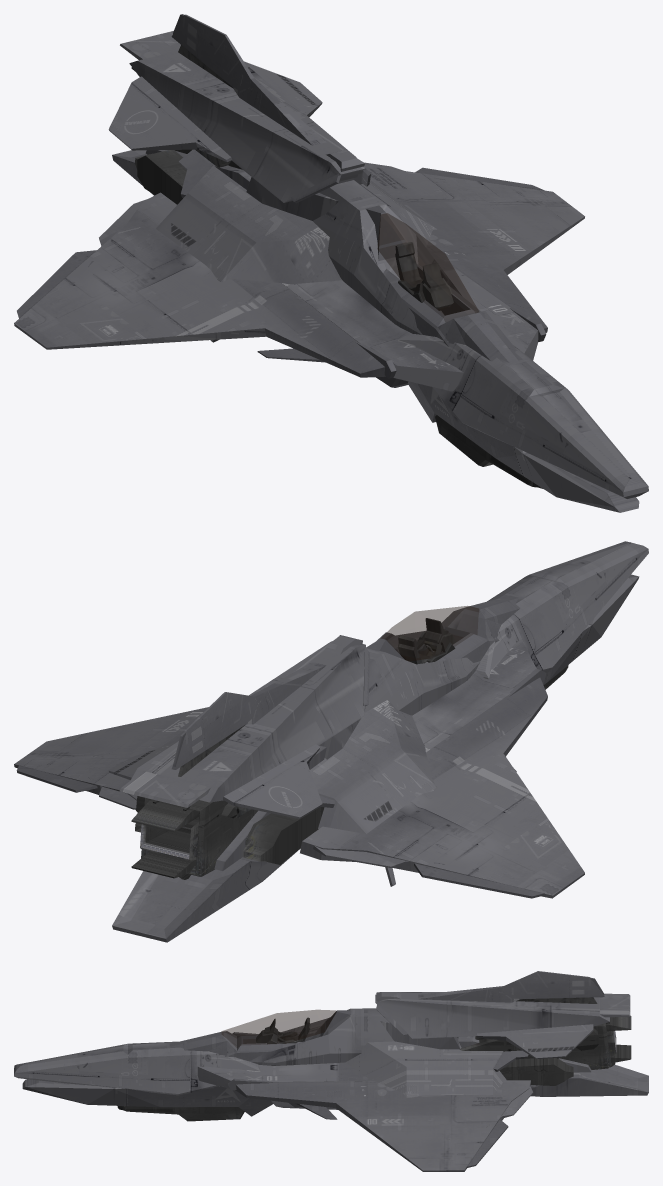
File: fighter_black.FBX
3 renders of one model, top to bottom at view 1: azimuth 30°, elevation 25°; view 2: azimuth 150°, elevation 25°; view 3: azimuth 270°, elevation 25°, orthographic. The views are drawn at different scales.
Visible parts, largest first — view 1: Line016, Line032, Line005, fighter; view 2: Line016, Line005, Line032, fighter; view 3: Line016, Line005, Line032, fighter.
Part boxes in pixels (x1,y1,x2,y2): Line016: (14, 14, 648, 512); Line032: (377, 213, 478, 321); Line005: (131, 45, 542, 488); fighter: (395, 242, 453, 310); Line016: (14, 541, 648, 942); Line005: (131, 665, 568, 879); Line032: (381, 606, 478, 661); fighter: (398, 618, 456, 664); Line016: (14, 971, 648, 1171); Line005: (117, 997, 631, 1121); Line032: (222, 1010, 335, 1047); fighter: (256, 1017, 310, 1044).
Bounding box in the file's own units: 167 × 67.48 × 266.
